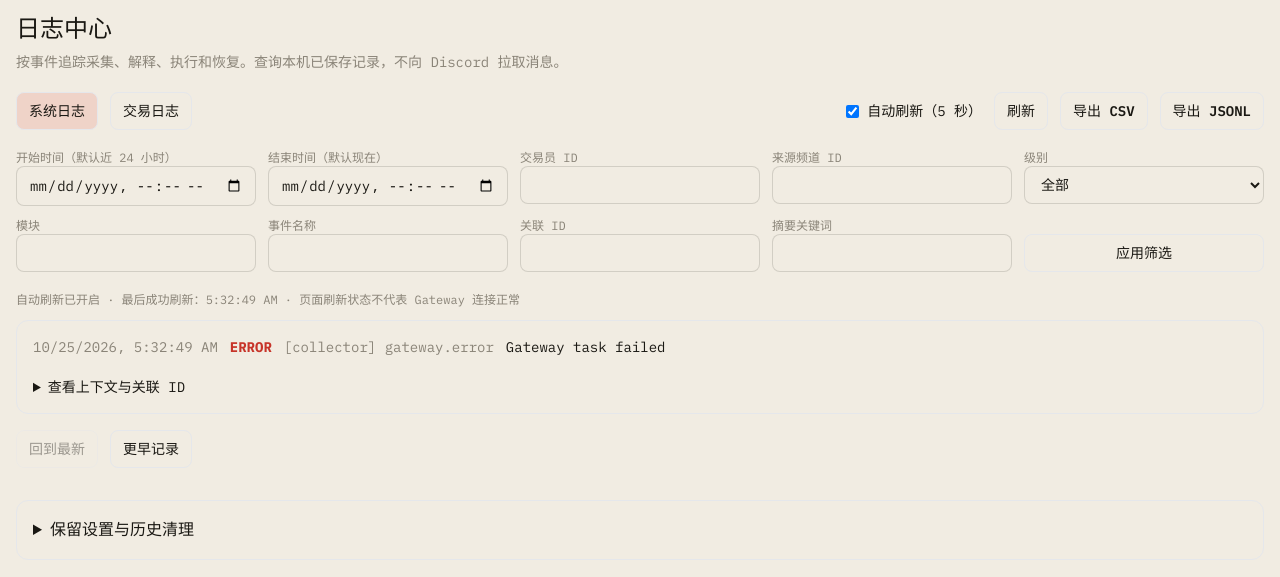
日志中心 › 显示系统事件并在历史页暂停自动刷新
Expected: the text "Gateway task failed" is shown, top-left (506, 337), bottom-right (665, 357)
What coordinates should you click on to do the following:
click the button "更早记录"
I would click on:
 (151, 449)
Its box is top-left (110, 430), bottom-right (192, 468).
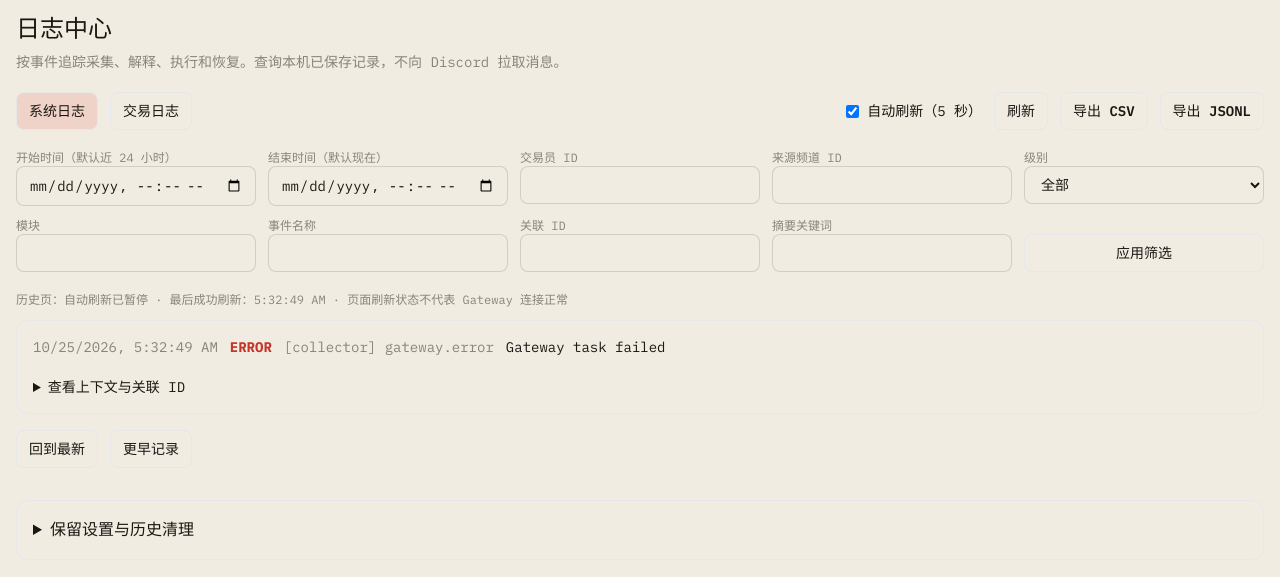
Now the text "历史页：自动刷新已暂停 · 最后成功刷新：5:32:49 AM · 页面刷新状态不代表 Gateway 连接正常" is shown, box top-left (16, 292), bottom-right (568, 307)
